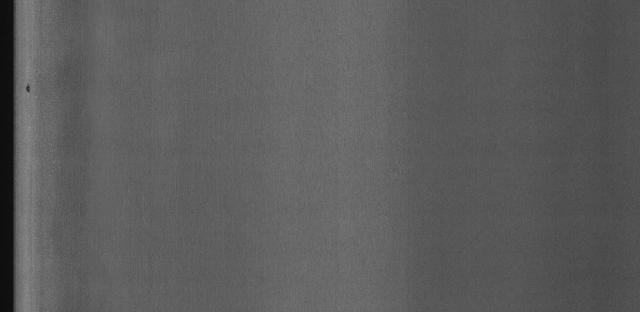inclusion: (22, 74, 43, 106)
